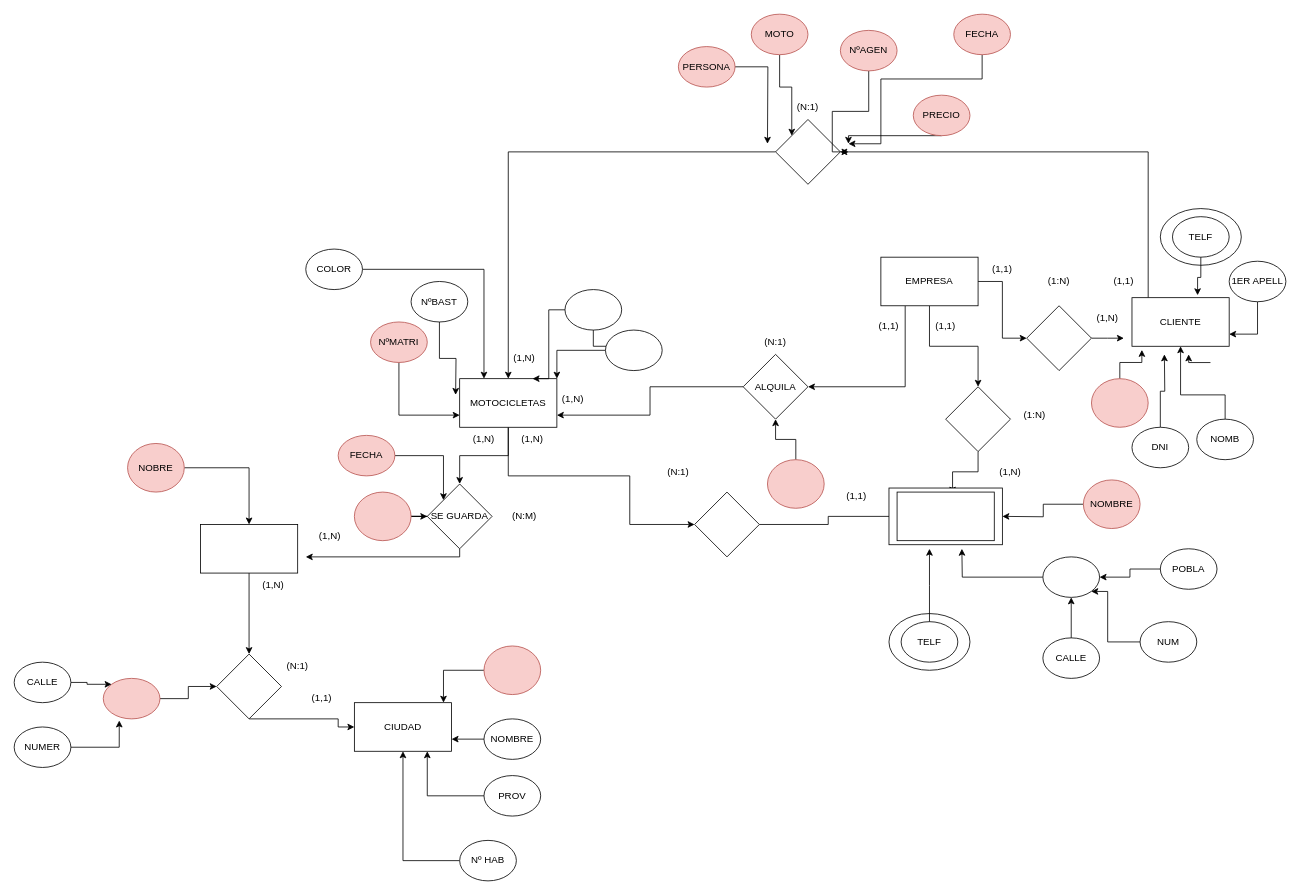
Some shapes in this 1300 by 895 pixel diagram are drawn without their labels. Each missing label, with the box of its shape:
AGENCIAS: (896, 491, 994, 541)
ALTA: (1026, 305, 1091, 371)
ASIGNA: (694, 491, 759, 557)
COD: (1091, 378, 1148, 427)
COD POST: (483, 645, 541, 695)
CONTRATA: (945, 386, 1010, 452)
DIRECC: (102, 678, 160, 719)
DIRECCION: (1042, 556, 1100, 597)
GARAGES: (200, 524, 298, 573)
LUGAR: (354, 491, 411, 541)
MARCA: (564, 289, 622, 330)
MODELO: (605, 329, 662, 371)
NºSEG: (767, 459, 824, 508)
PERTENECE: (216, 653, 281, 719)
RESERV: (775, 119, 840, 184)
